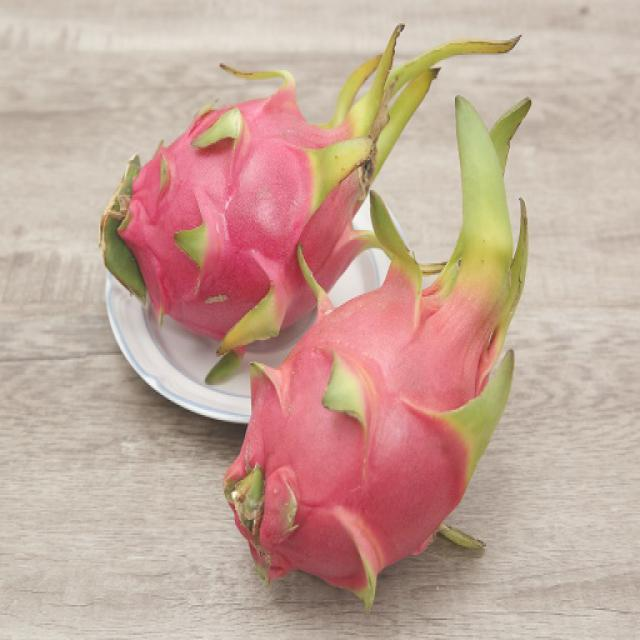trang: (230, 96, 530, 606), (100, 34, 528, 366)
